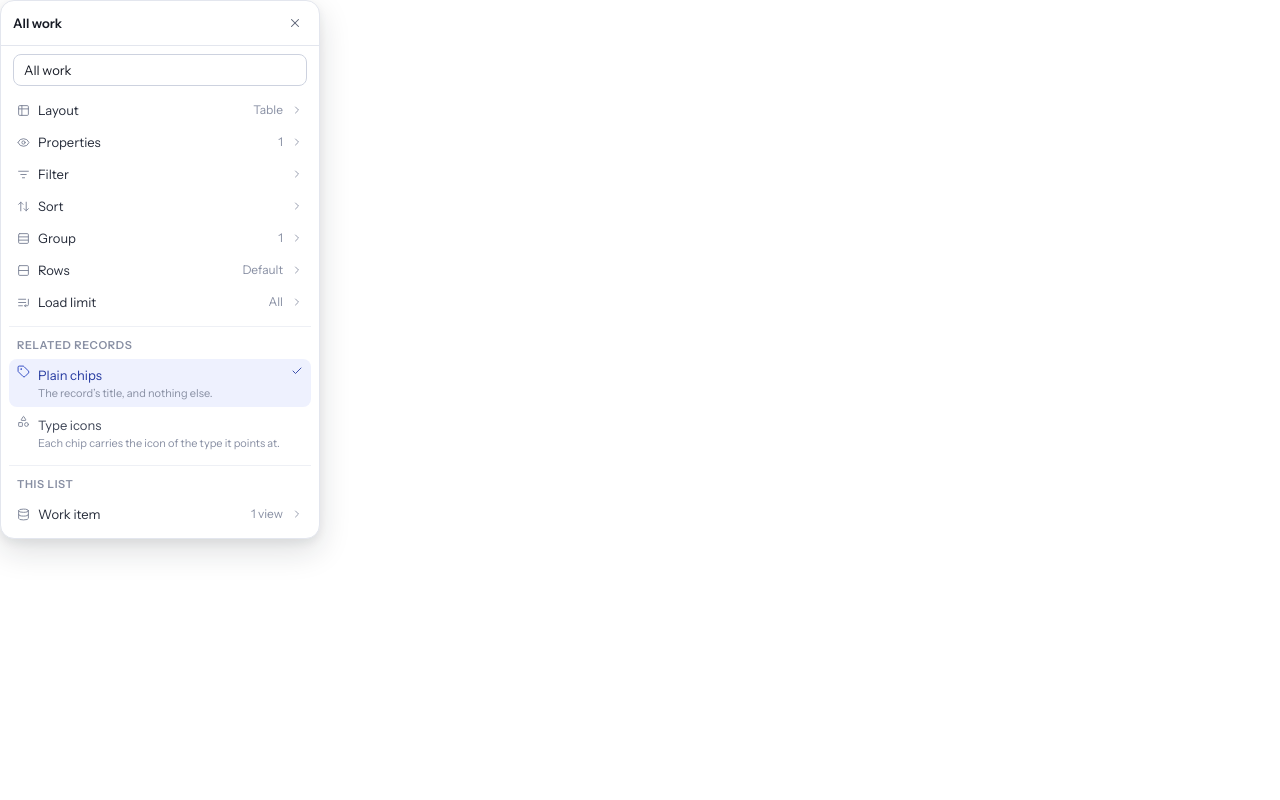
Test: hide empty groups (M16.26) › offers a toggle per band level
This screenshot has width=1280, height=800.
Click the button with test id "view-settings-group" at (57, 238), box x1=9 y1=222 x2=311 y2=254
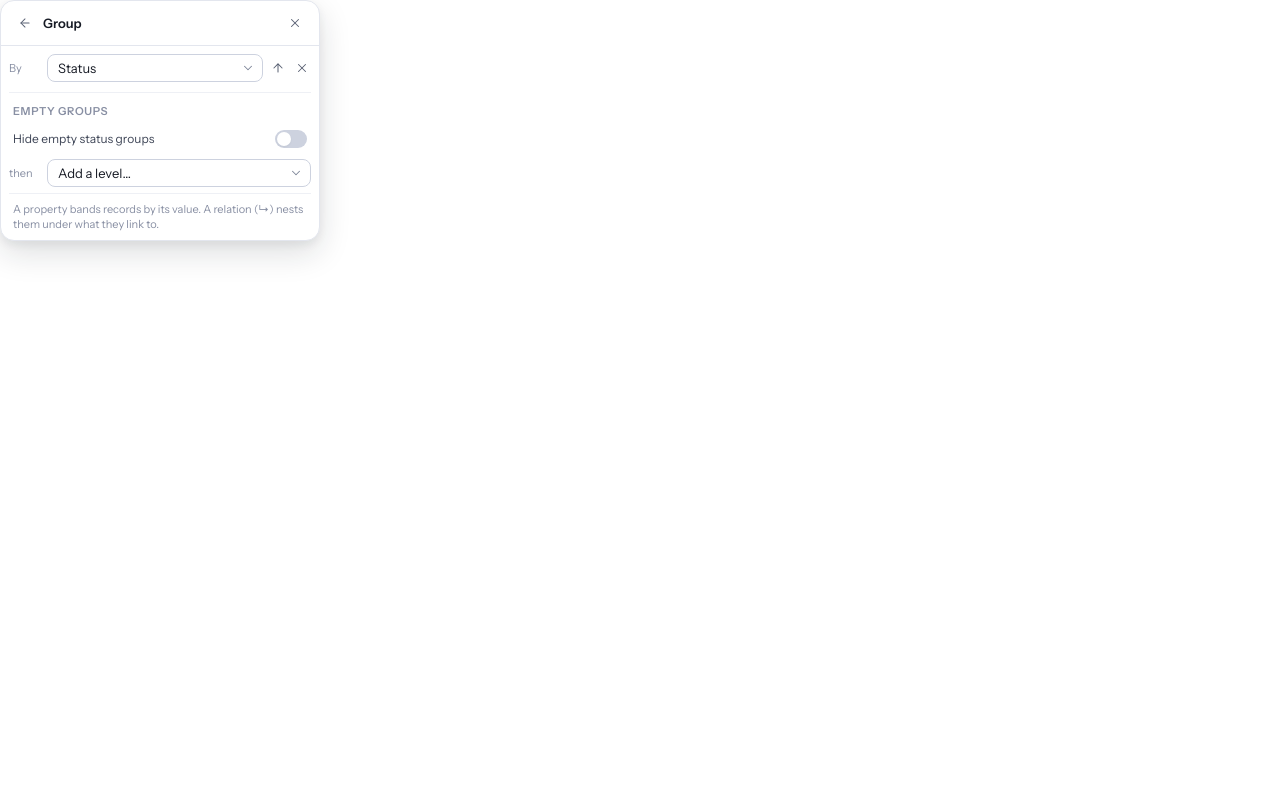
expect the switch labelled "Hide empty status groups" is shown: met, box x1=9 y1=125 x2=311 y2=153
